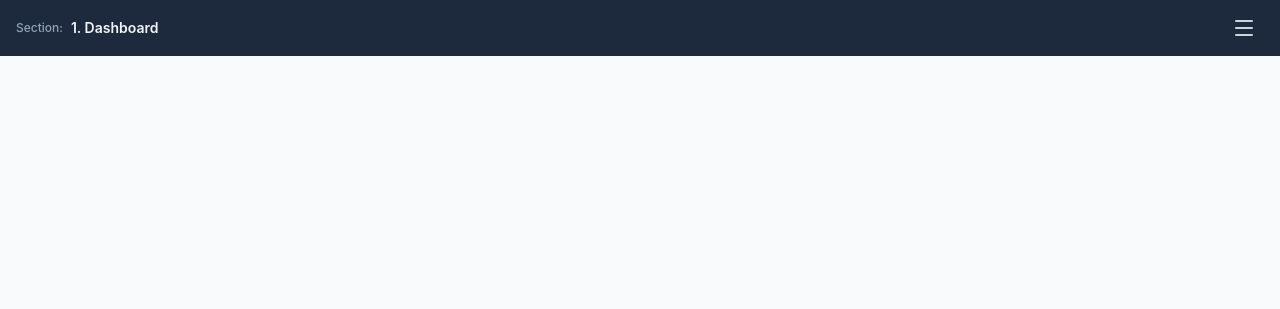
it: Navbar accessibility › selects a mobile section and closes the menu
Click the button named "Toggle navigation menu".
click(1244, 28)  # box [1224,8,1264,48]
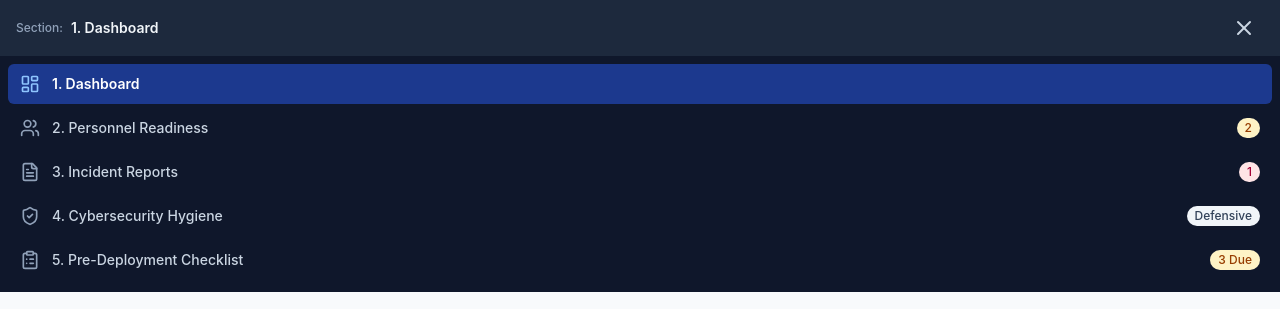
Click the button "3. Incident Reports 1".
click(115, 172)  # box [8,152,1272,192]
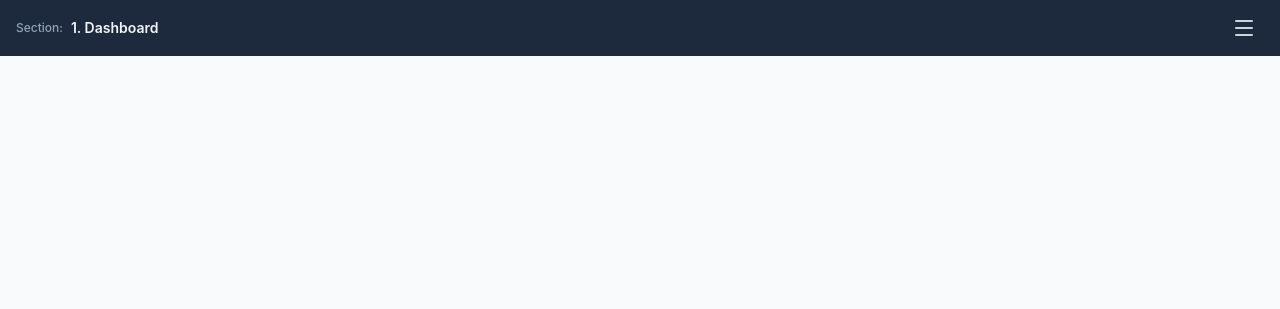
Expected: the button named "Toggle navigation menu" is collapsed, [1224,8,1264,48]
Expected: the element with id "safer-mobile-navigation" is gone
